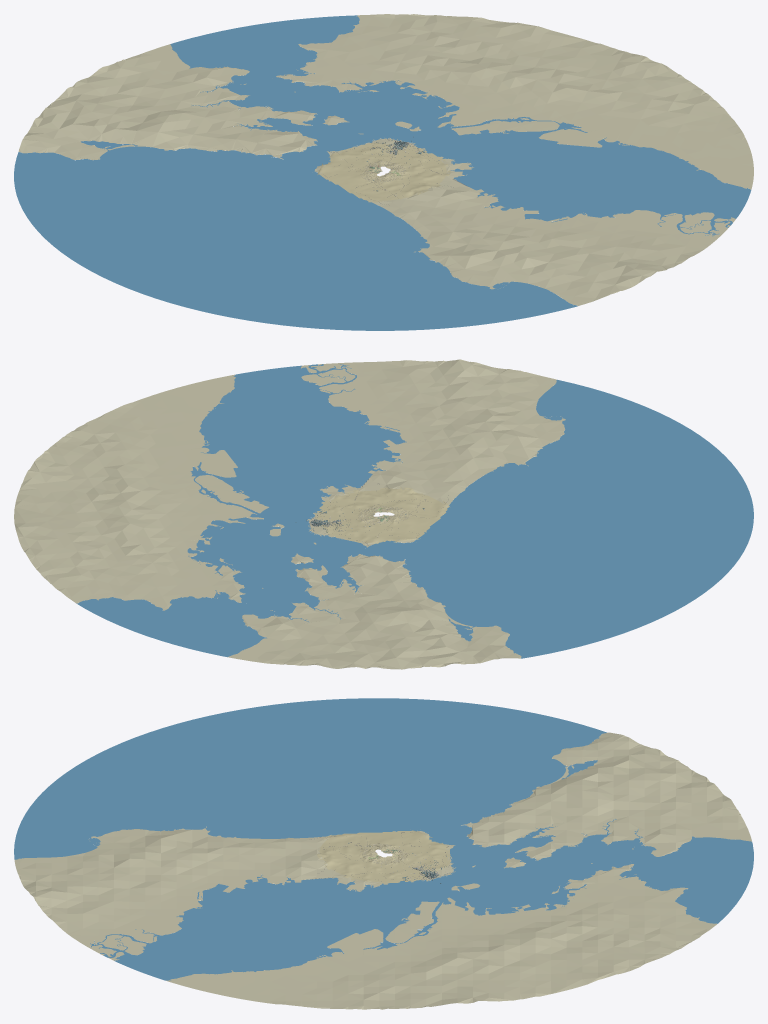
The model's file is backdrop.glb.
3 views of the same model, one above another, from view 1: azimuth 30°, elevation 25°; view 2: azimuth 150°, elevation 25°; view 3: azimuth 270°, elevation 25° (orthographic).
Visible parts, largest first — view 1: backdrop_horizon_water, backdrop_horizon_land, backdrop_terrain_scrub; view 2: backdrop_horizon_water, backdrop_horizon_land, backdrop_terrain_scrub; view 3: backdrop_horizon_water, backdrop_horizon_land, backdrop_terrain_scrub.
Boxes of the visible parts, <box> form: backdrop_horizon_water: <box>14,15,751,330</box>; backdrop_horizon_land: <box>18,14,753,305</box>; backdrop_terrain_scrub: <box>317,143,450,202</box>; backdrop_horizon_water: <box>76,364,753,658</box>; backdrop_horizon_land: <box>14,359,565,669</box>; backdrop_terrain_scrub: <box>314,487,449,543</box>; backdrop_horizon_water: <box>14,698,753,980</box>; backdrop_horizon_land: <box>14,732,751,1009</box>; backdrop_terrain_scrub: <box>317,830,450,883</box>.
Bounding box in the file's own units: 71253 × 668 × 71124.
